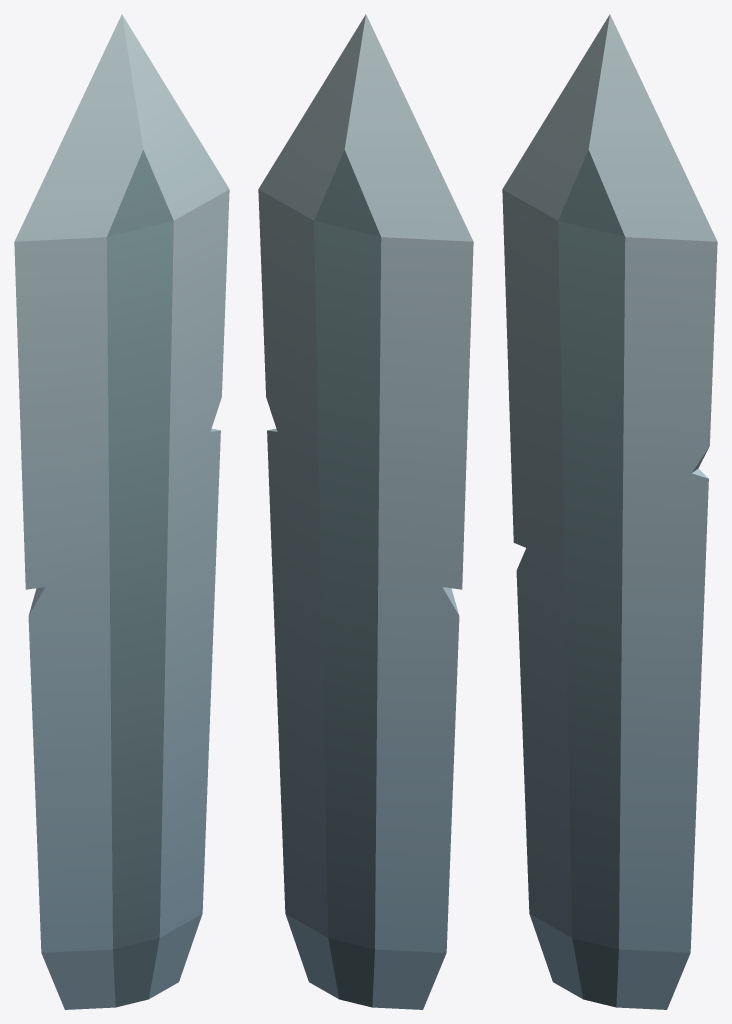
The model's file is blade_002.fbx.
3 views of the same model, side by side, from view 1: azimuth 30°, elevation 25°; view 2: azimuth 150°, elevation 25°; view 3: azimuth 330°, elevation 25° (orthographic).
Visible parts, largest first — view 1: blade.002; view 2: blade.002; view 3: blade.002.
Part boxes in pixels (box(x1,y1,x2,y2)): blade.002: box(14, 14, 229, 1009); blade.002: box(258, 14, 473, 1009); blade.002: box(502, 14, 717, 1009).
Bounding box in the file's own units: 23.01 × 100 × 7.9.
